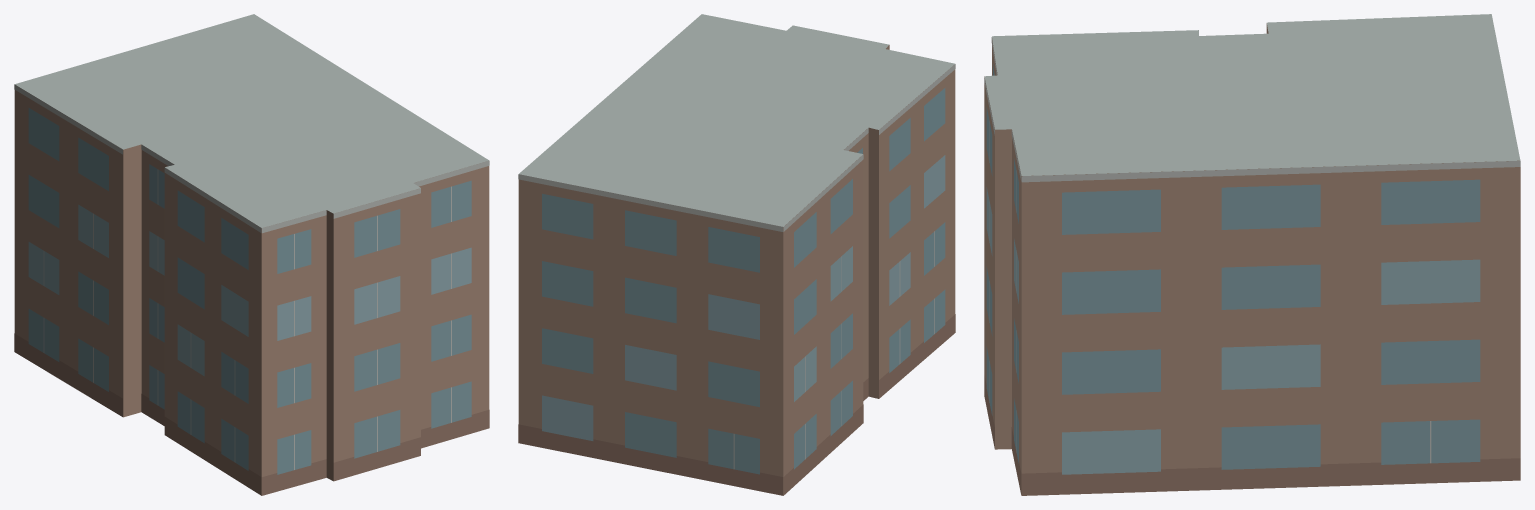
Rendered from survey-upis-32982821.glb.
3 renders of one model, left to right at view 1: azimuth 30°, elevation 25°; view 2: azimuth 150°, elevation 25°; view 3: azimuth 270°, elevation 25°, orthographic. The views are drawn at different scales.
Parts seen in each view (by area): view 1: survey-upis-32982821.tmp; view 2: survey-upis-32982821.tmp; view 3: survey-upis-32982821.tmp.
Part boxes in pixels (x1,y1,x2,y2): survey-upis-32982821.tmp: (14, 14, 489, 495); survey-upis-32982821.tmp: (518, 14, 955, 495); survey-upis-32982821.tmp: (984, 14, 1520, 495).
Bounding box in the file's own units: 13.49 × 12.4 × 18.85.
